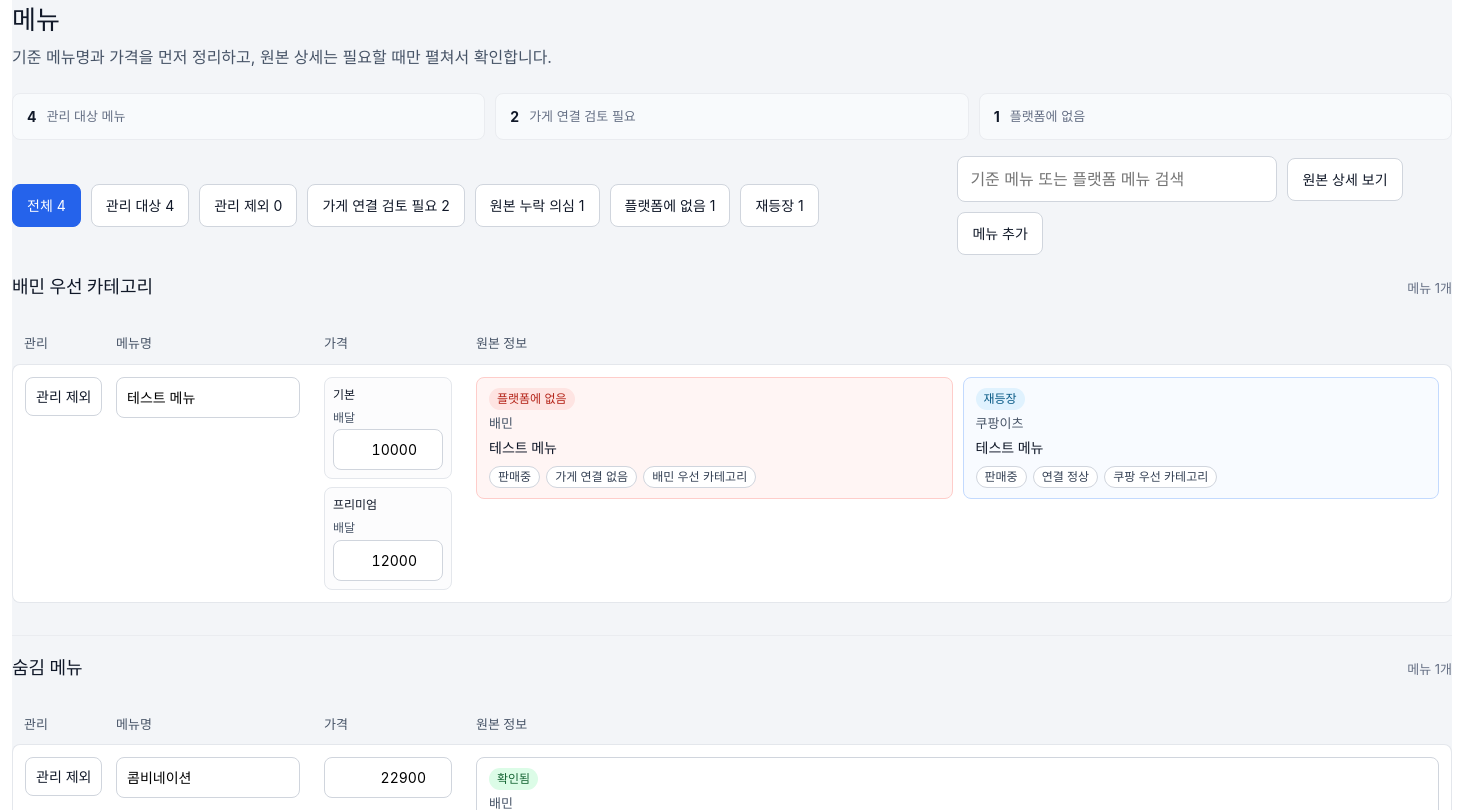
MenuPage › lets the user exclude a menu from management
Click the button "관리 제외" in the row of "확인됨": (64, 777) [25, 757, 102, 796]
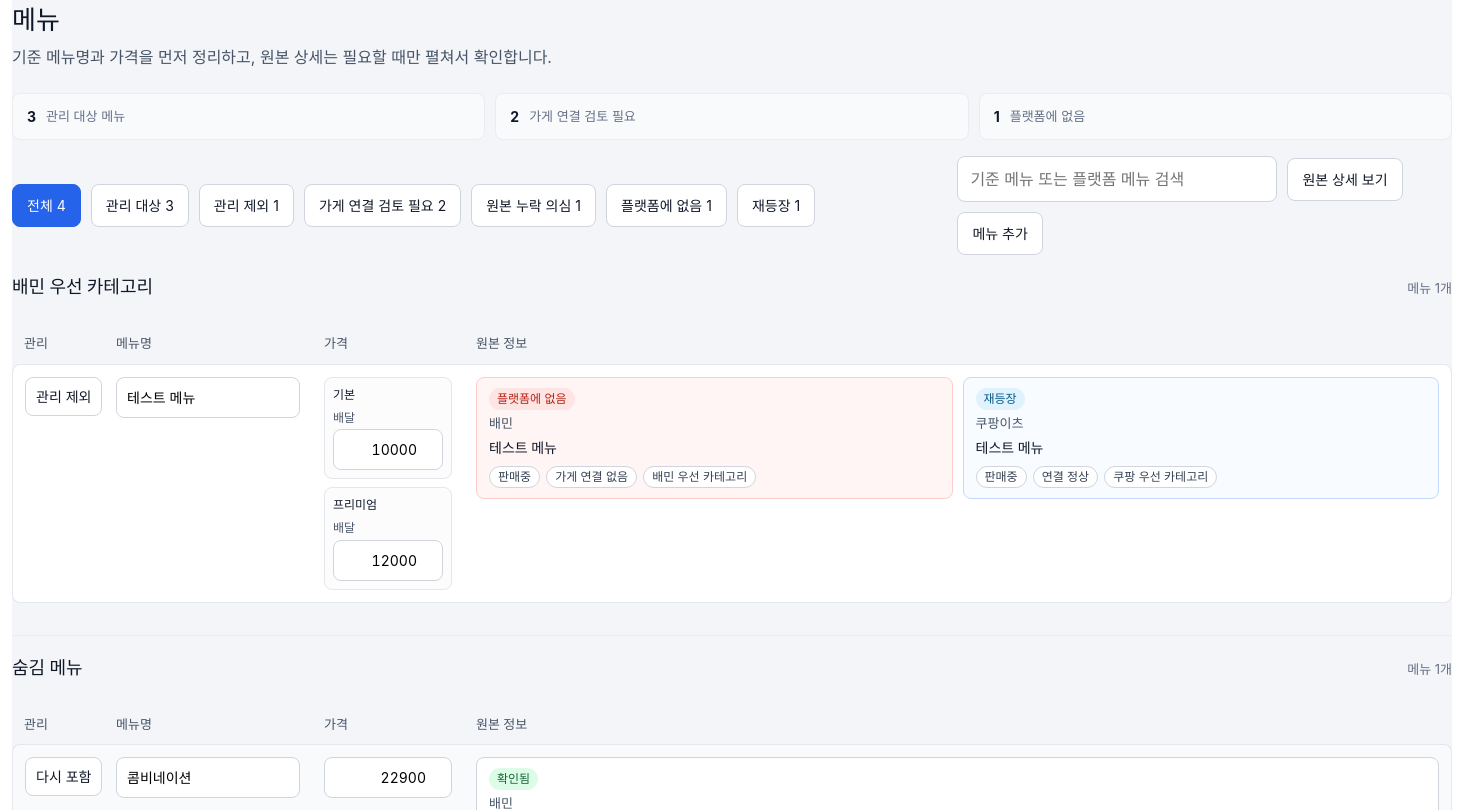
Now the button "다시 포함" is shown, box [25, 757, 102, 796]
